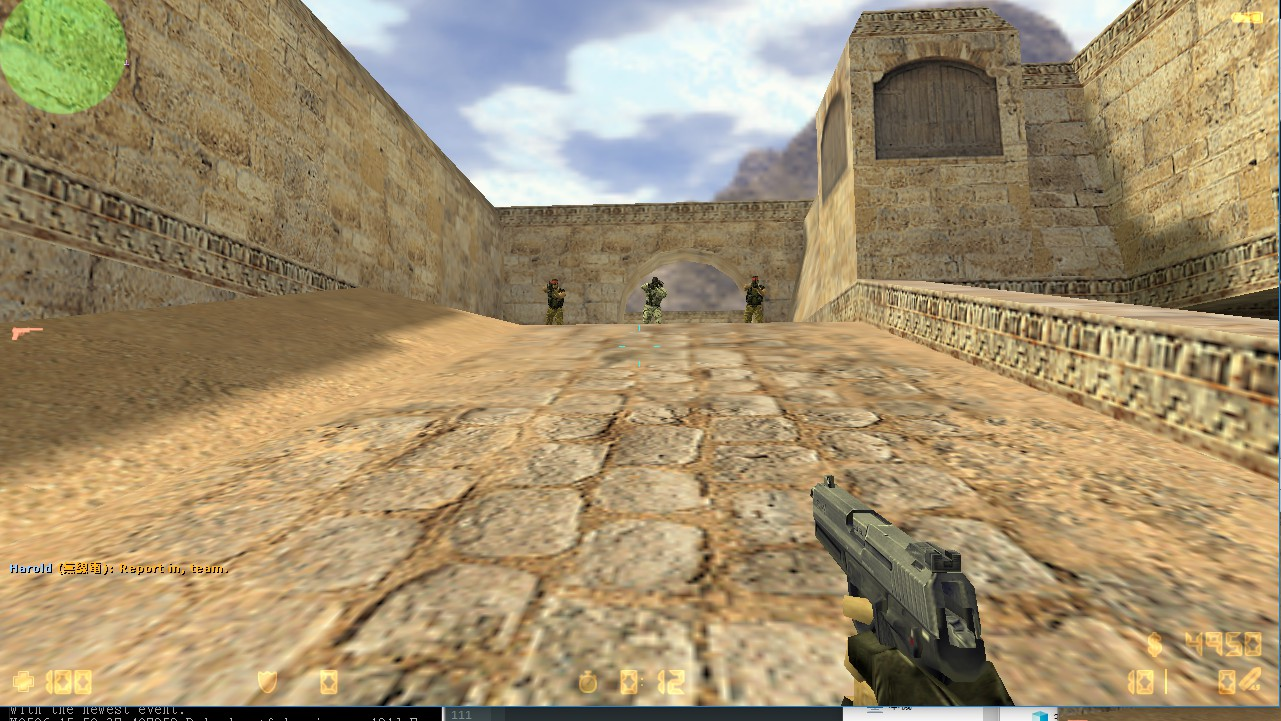person: (637, 272, 671, 322), (540, 276, 568, 324), (742, 273, 767, 323)
